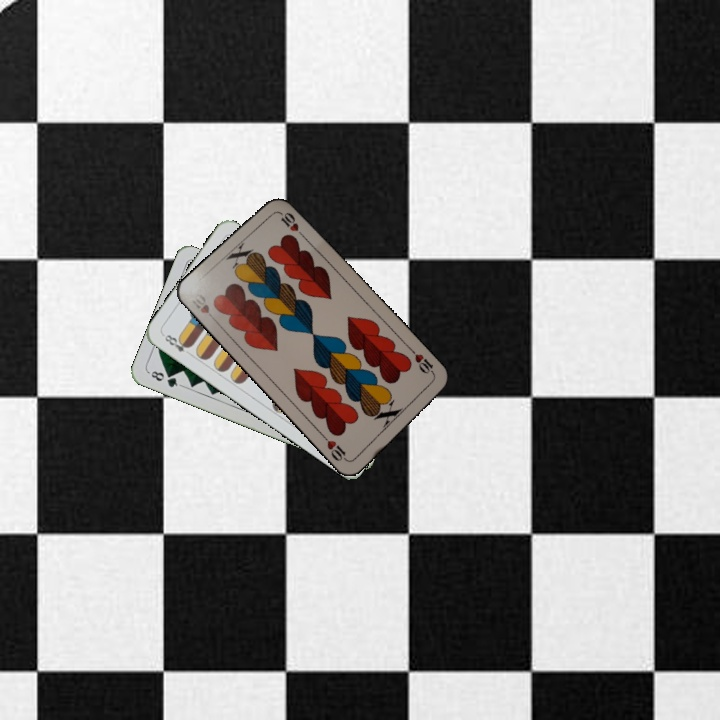E8: (159, 330, 194, 355)
G8: (145, 367, 184, 390)
H10: (185, 289, 218, 324), (407, 345, 438, 379)
